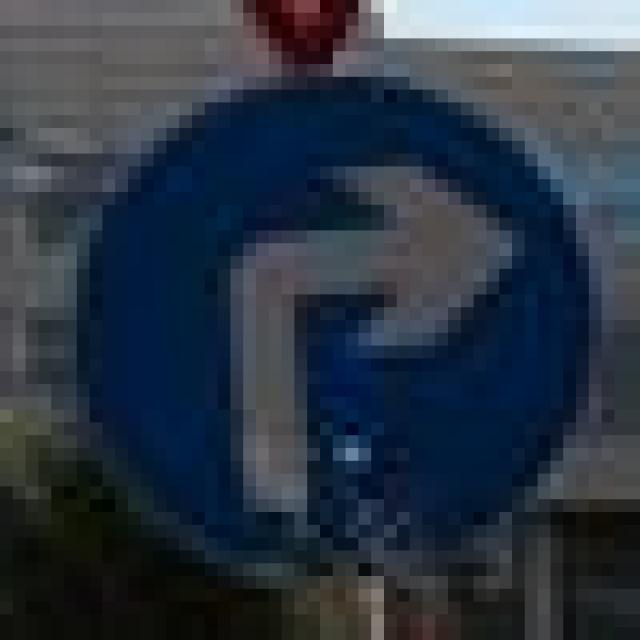TURN_RIGHT: (51, 64, 576, 576)
